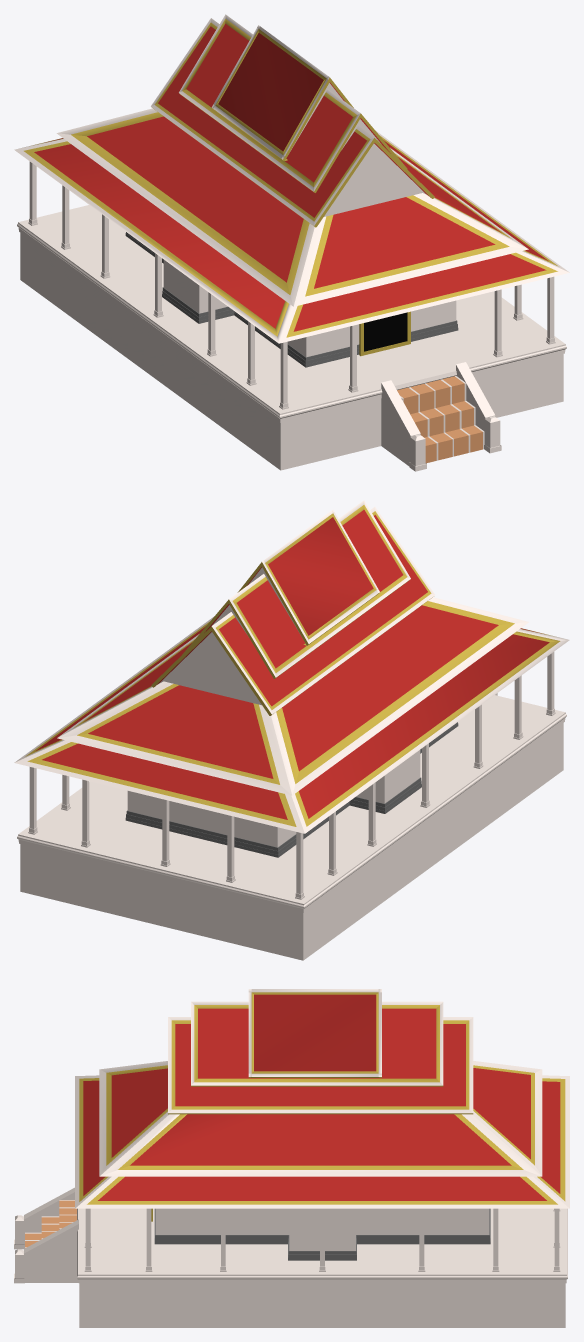
File: Tample1_2.fbx
3 renders of one model, top to bottom at view 1: azimuth 30°, elevation 25°; view 2: azimuth 150°, elevation 25°; view 3: azimuth 270°, elevation 25°, orthographic. The views are drawn at different scales.
Visible parts, largest first — view 1: Roof, Buil, Sao; view 2: Roof, Buil, Sao; view 3: Roof, Buil, Sao.
Part boxes in pixels (x1=…): Roof: x1=14, y1=14, x2=569, y2=343; Buil: x1=17, y1=205, x2=566, y2=471; Sao: x1=28, y1=161, x2=555, y2=409; Roof: x1=14, y1=500, x2=569, y2=833; Buil: x1=17, y1=693, x2=566, y2=960; Sao: x1=28, y1=652, x2=555, y2=899; Roof: x1=75, y1=989, x2=569, y2=1208; Buil: x1=14, y1=1187, x2=567, y2=1327; Sao: x1=84, y1=1208, x2=560, y2=1271.
Bounding box in the file's own units: 841 × 809 × 1491.
